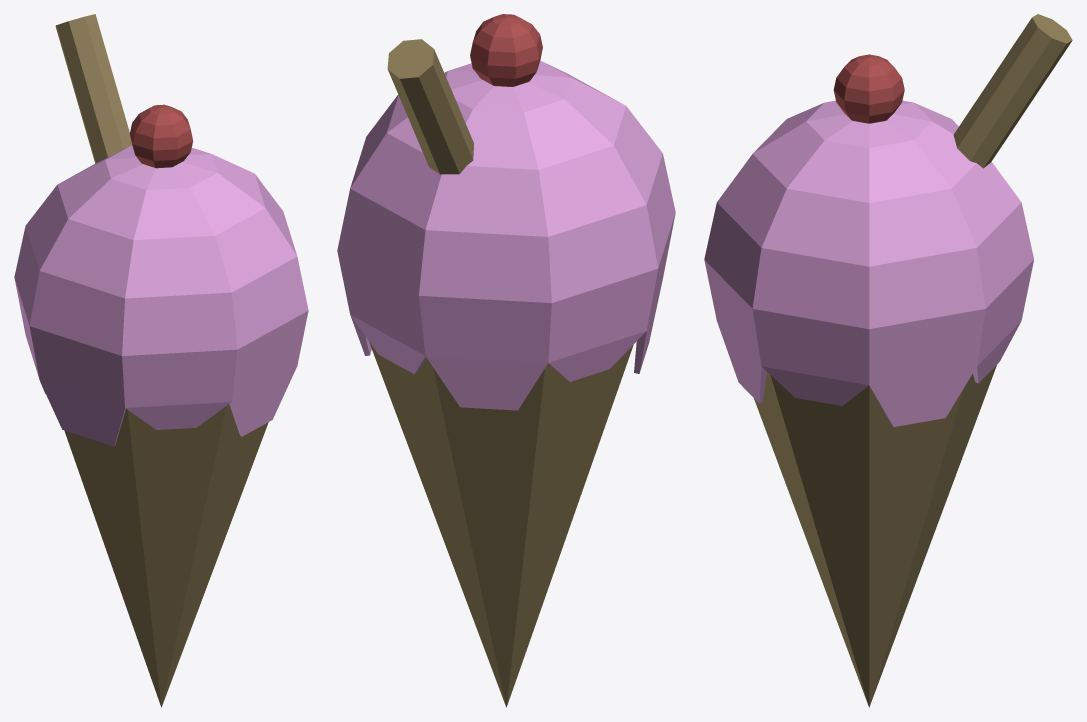
File: Helado.fbx
3 views of the same model, side by side, from view 1: azimuth 30°, elevation 25°; view 2: azimuth 150°, elevation 25°; view 3: azimuth 270°, elevation 25° (orthographic). The views are drawn at different scales.
Visible parts, largest first — view 1: pSphere1, pCone1, pCylinder1, pSphere2; view 2: pSphere1, pCone1, pCylinder1, pSphere2; view 3: pSphere1, pCone1, pCylinder1, pSphere2.
Boxes of the visible parts, bbox=[...] form: pSphere1: bbox=[14, 145, 308, 446]; pCone1: bbox=[64, 404, 268, 707]; pCylinder1: bbox=[55, 14, 131, 163]; pSphere2: bbox=[129, 104, 192, 168]; pSphere1: bbox=[337, 60, 675, 410]; pCone1: bbox=[369, 341, 633, 707]; pCylinder1: bbox=[387, 39, 473, 174]; pSphere2: bbox=[470, 14, 542, 86]; pSphere1: bbox=[704, 100, 1033, 426]; pCone1: bbox=[754, 365, 996, 707]; pCylinder1: bbox=[953, 14, 1072, 168]; pSphere2: bbox=[833, 54, 904, 123].
Bounding box in the file's own units: 2.36 × 5.43 × 2.63.
